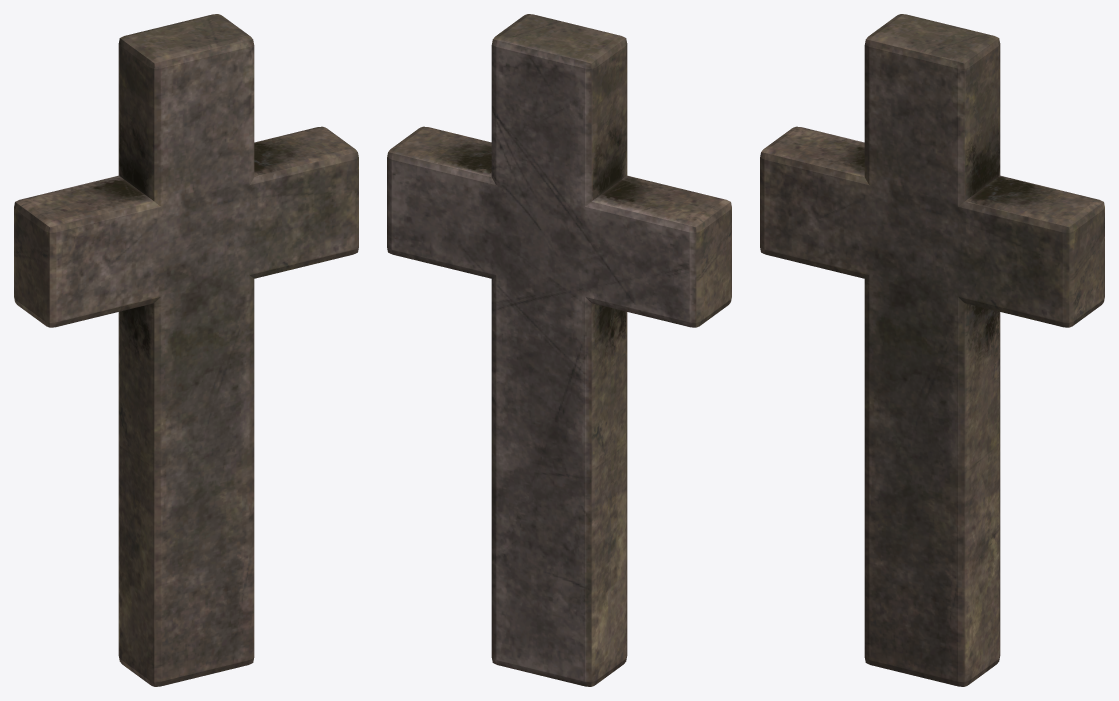
Rendered from SM_gravestone_15.fbx.
3 renders of one model, left to right at view 1: azimuth 30°, elevation 25°; view 2: azimuth 150°, elevation 25°; view 3: azimuth 330°, elevation 25°, orthographic.
Parts seen in each view (by area): view 1: SM_gravestone_015; view 2: SM_gravestone_015; view 3: SM_gravestone_015.
Part boxes in pixels (x1,y1,x2,y2): SM_gravestone_015: [14, 14, 358, 686]; SM_gravestone_015: [387, 14, 731, 686]; SM_gravestone_015: [760, 14, 1104, 686].
Size of the model in its own units: 39.34 by 75.5 by 8.22.
